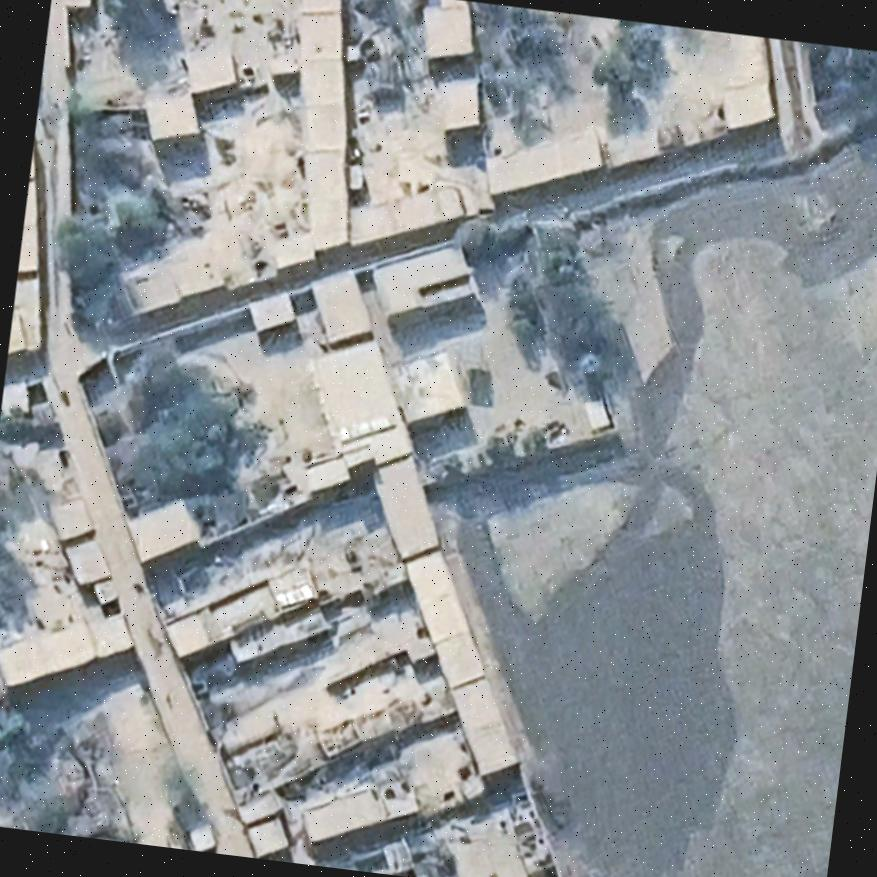Solarpanel: (330, 409, 398, 447), (269, 580, 317, 610)
